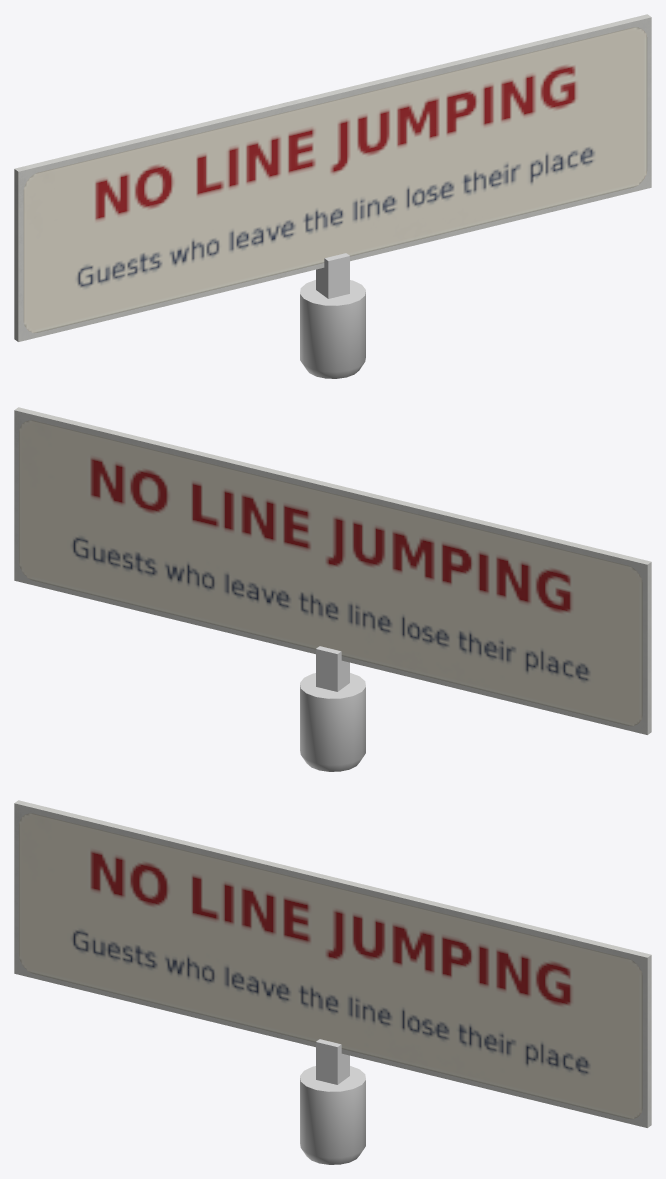
Rendered from SM_QUE_Sign_NoLineJumping.fbx.
3 renders of one model, top to bottom at view 1: azimuth 30°, elevation 25°; view 2: azimuth 150°, elevation 25°; view 3: azimuth 330°, elevation 25°, orthographic.
Parts seen in each view (by area): view 1: SM_QUE_Sign_NoLineJumping; view 2: SM_QUE_Sign_NoLineJumping; view 3: SM_QUE_Sign_NoLineJumping.
Boxes of the visible parts, x1=… form: SM_QUE_Sign_NoLineJumping: x1=14, y1=14, x2=651, y2=378; SM_QUE_Sign_NoLineJumping: x1=14, y1=407, x2=651, y2=771; SM_QUE_Sign_NoLineJumping: x1=14, y1=800, x2=651, y2=1164.
Size of the model in its own units: 0.7 by 0.29 by 0.064.
